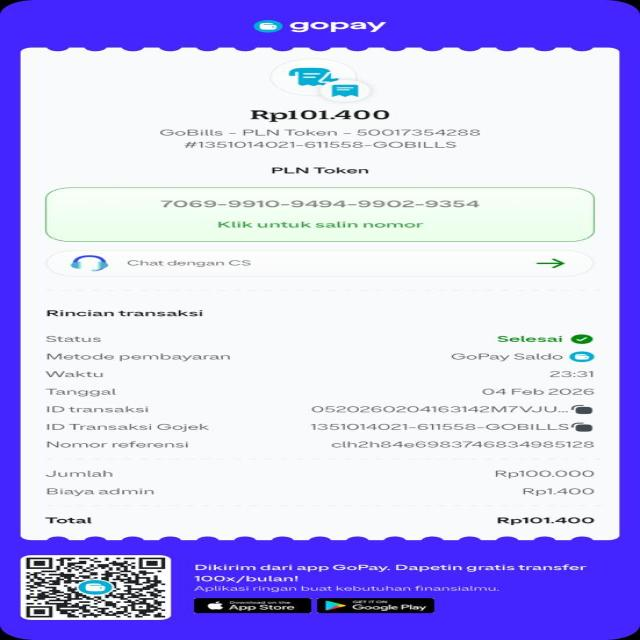date: (477, 386, 603, 398)
store: (267, 165, 374, 177)
total: (40, 516, 599, 526)
